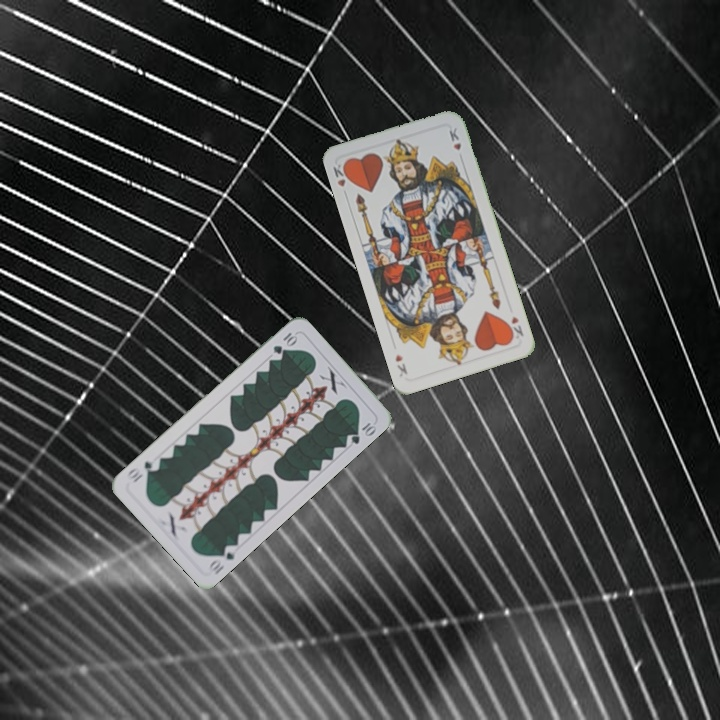G10: (205, 540, 238, 576), (269, 328, 300, 357)
HK: (329, 158, 353, 200), (503, 312, 526, 342)
